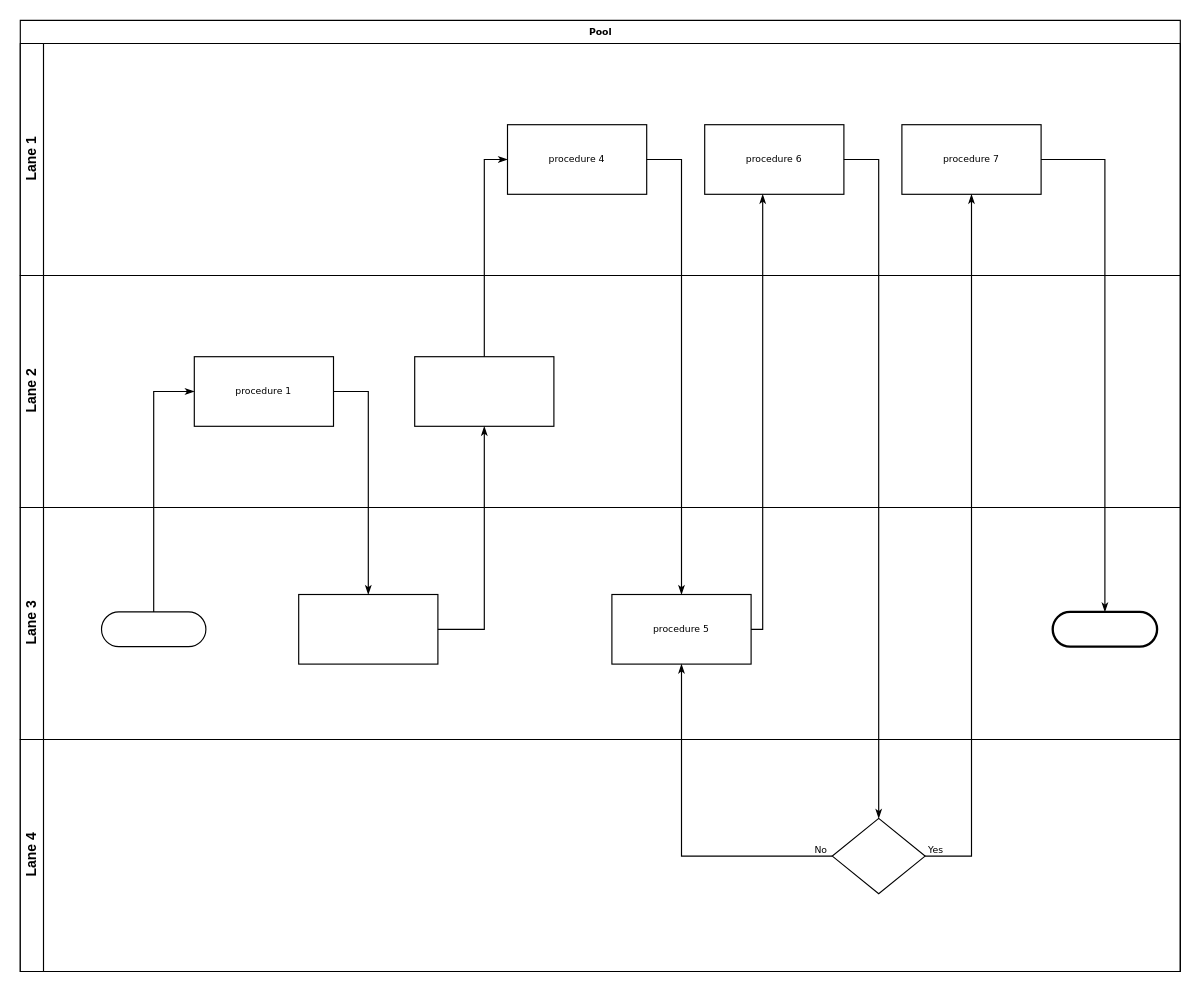
This 1201x992 diagram has some shape labels left out. Each missing label, with the centre of its shape:
condition 1: point (878, 855)
end: point (1104, 628)
procedure 2: point (368, 628)
procedure 3: point (484, 391)
start: point (153, 629)
